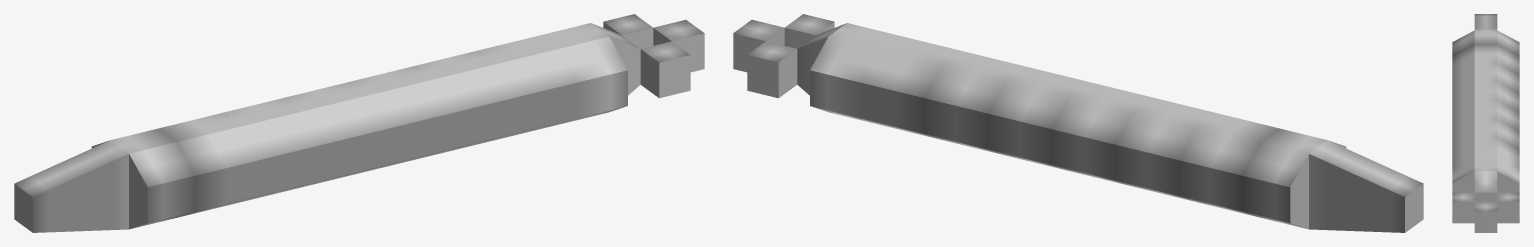
Rendered from obj_sprayer.fbx.
The picture shows the model from 3 angles, left to right: view 1: azimuth 30°, elevation 25°; view 2: azimuth 150°, elevation 25°; view 3: azimuth 270°, elevation 25°; orthographic projection. The views are drawn at different scales.
Parts seen in each view (by area): view 1: obj_sprayer; view 2: obj_sprayer; view 3: obj_sprayer.
Part boxes in pixels (x1,y1,x2,y2): obj_sprayer: [14, 14, 704, 232]; obj_sprayer: [733, 14, 1423, 232]; obj_sprayer: [1452, 14, 1519, 232].
Size of the model in its own units: 34.51 by 3.72 by 4.98.
